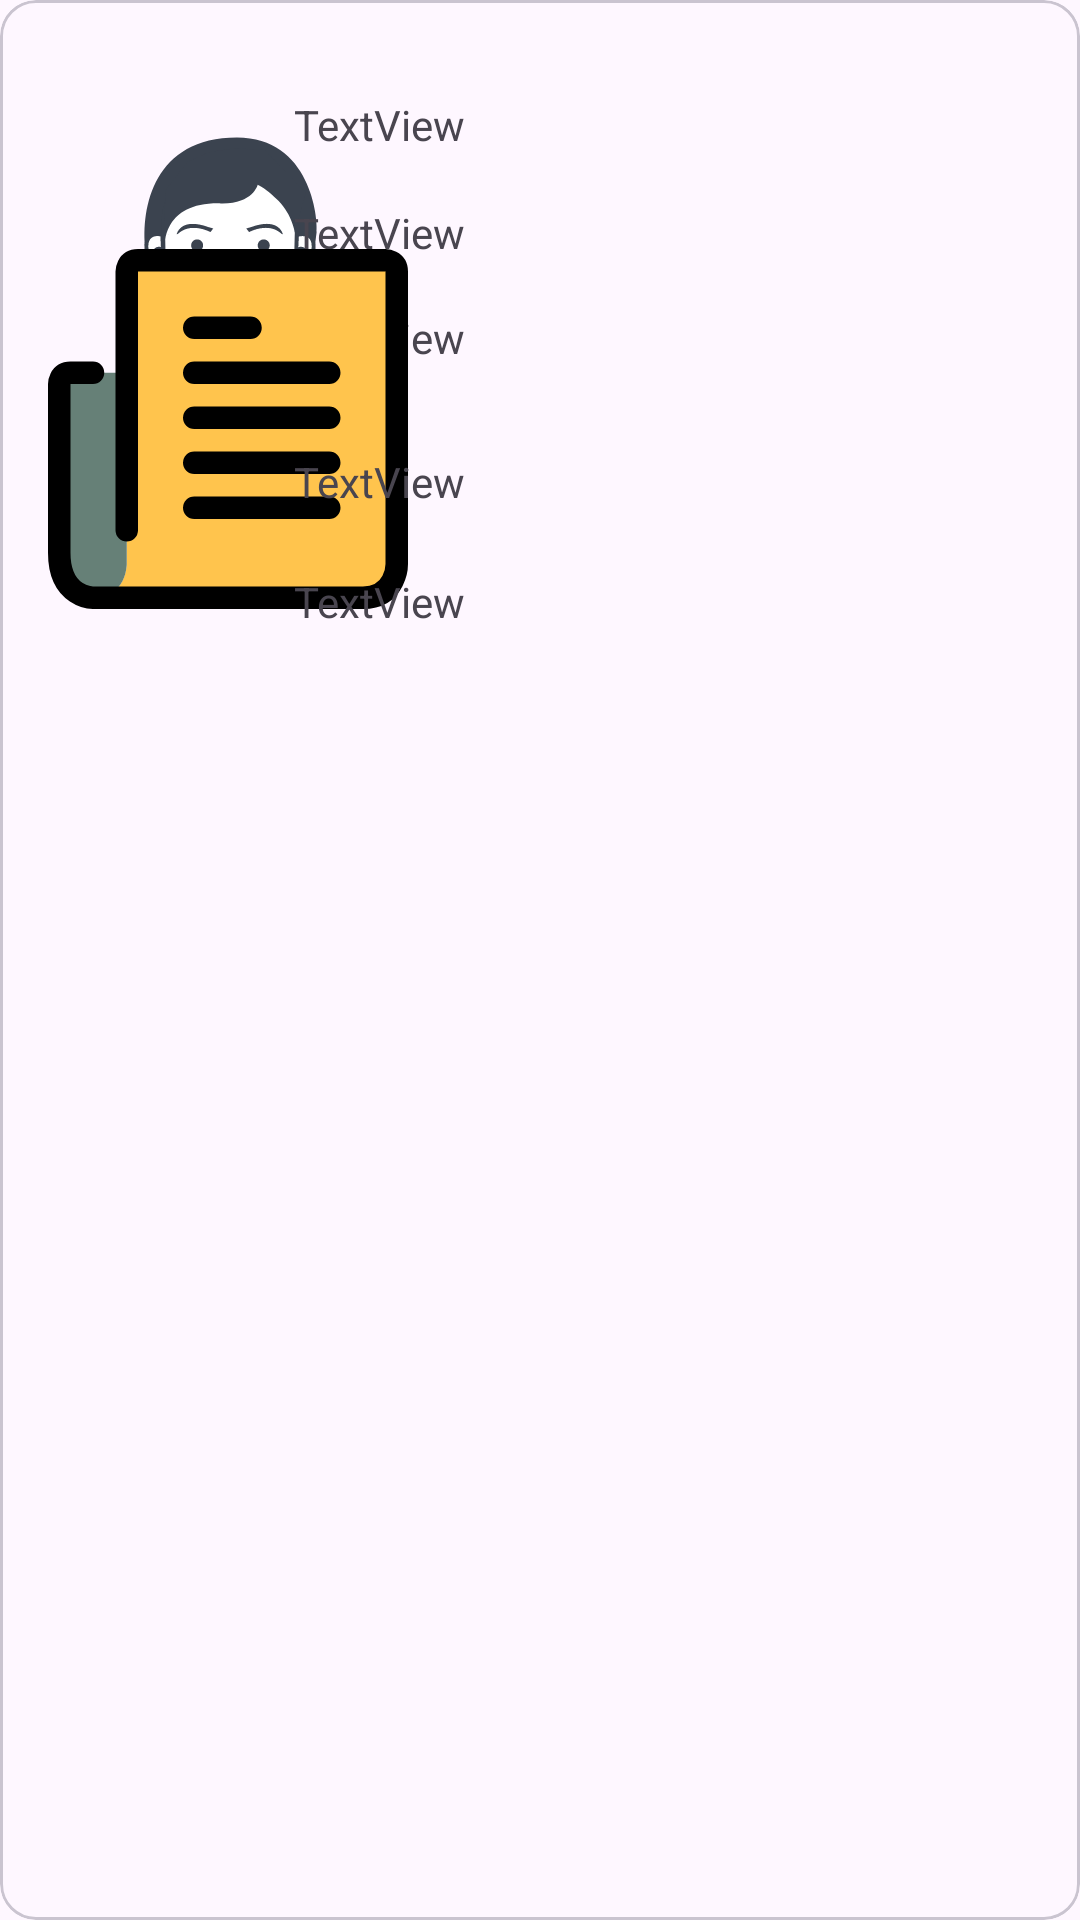

Named icons in this screenshot (1080px x 1920px) and their centers, point (x, y):
article: point (228, 429)
